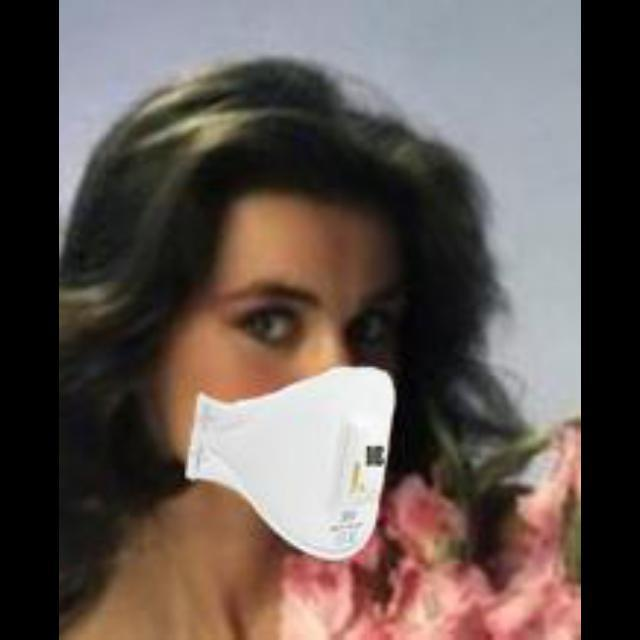suspicion: (108, 158, 460, 554)
